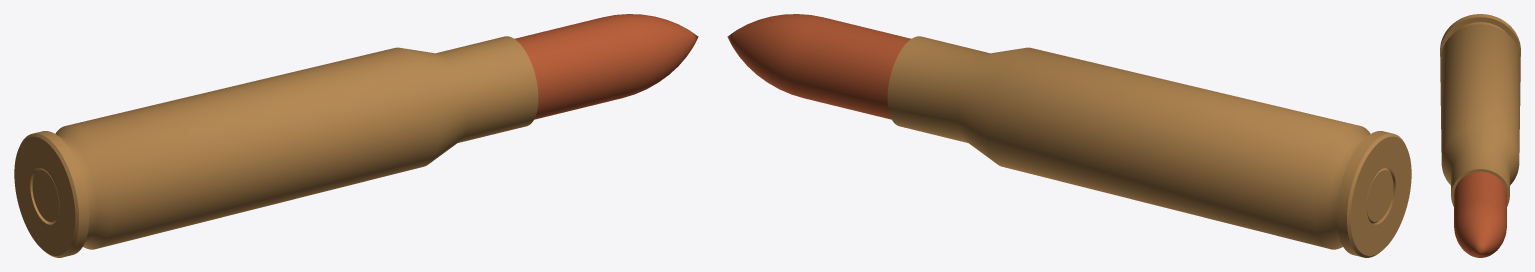
File: round-308_h_winchester.glb
The picture shows the model from 3 angles, left to right: view 1: azimuth 30°, elevation 25°; view 2: azimuth 150°, elevation 25°; view 3: azimuth 270°, elevation 25°; orthographic projection. The views are drawn at different scales.
Parts seen in each view (by area): view 1: cartridge:cartridge-model; view 2: cartridge:cartridge-model; view 3: cartridge:cartridge-model.
Part boxes in pixels (x1,y1,x2,y2): cartridge:cartridge-model: [14, 14, 698, 257]; cartridge:cartridge-model: [727, 14, 1411, 257]; cartridge:cartridge-model: [1440, 14, 1520, 257].
Bounding box in the file's own units: 0.0711 × 0.012 × 0.012.
